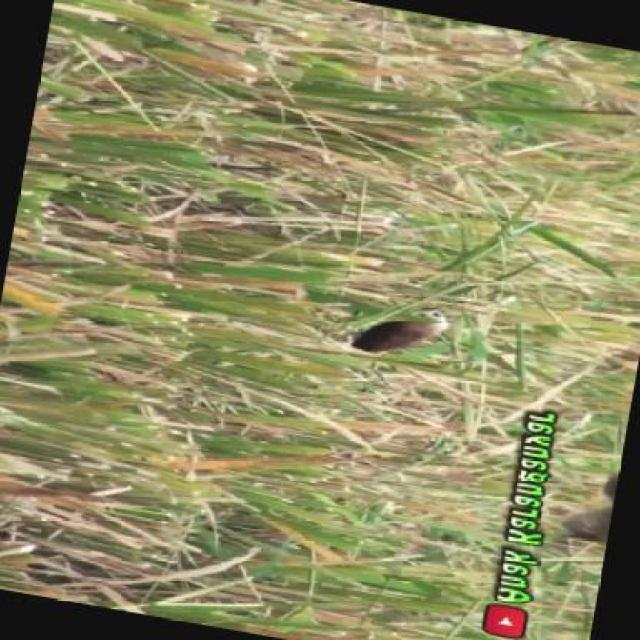Bird: (351, 306, 438, 355)
